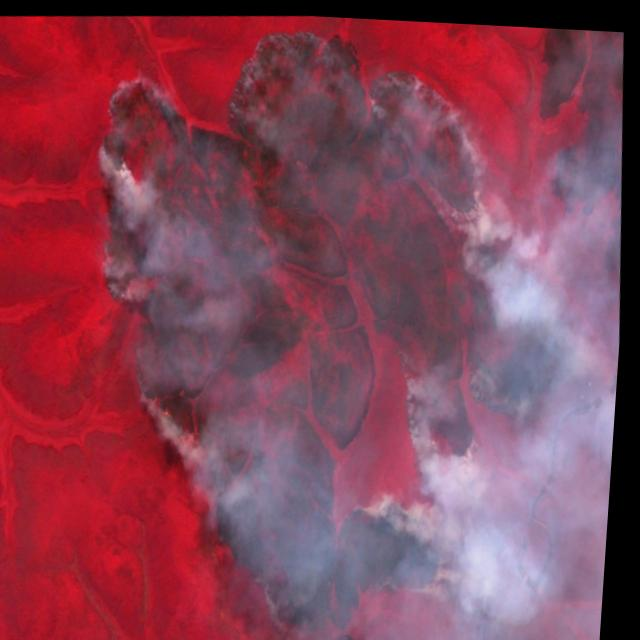fire: (57, 4, 625, 640)
